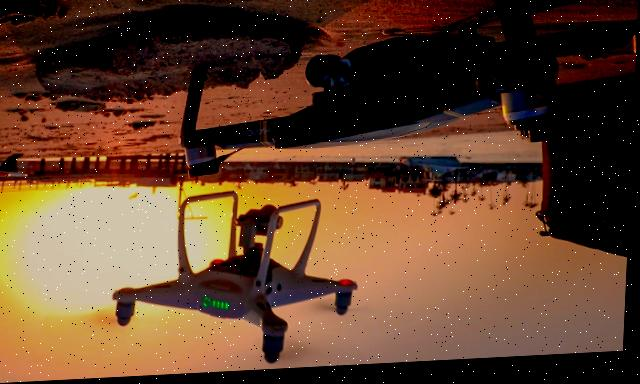drone: (78, 176, 388, 380)
